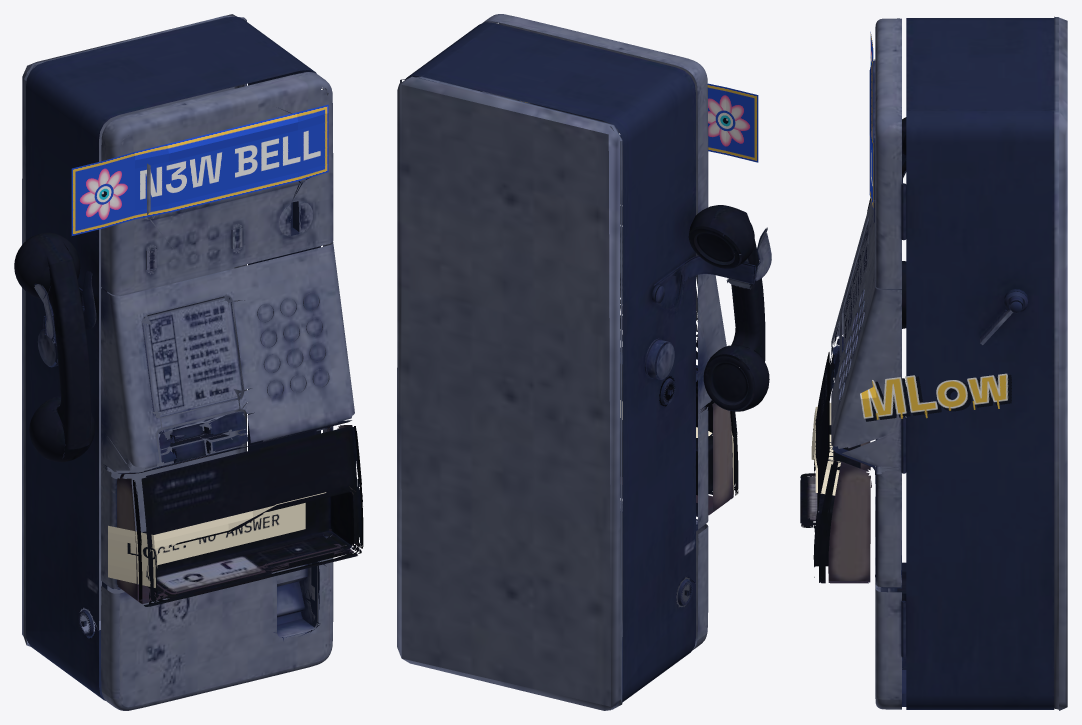
The model's file is nyb_oot_payphone.glb.
3 renders of one model, left to right at view 1: azimuth 30°, elevation 25°; view 2: azimuth 150°, elevation 25°; view 3: azimuth 270°, elevation 25°, orthographic.
Parts seen in each view (by area): view 1: korean_public_payphone_01, stk_lbl_ce1e61e44f.png, stk_lbl_8e0aa447f6.png; view 2: korean_public_payphone_01, stk_lbl_ce1e61e44f.png; view 3: korean_public_payphone_01, stk_tag_mlow_gold.png, stk_lbl_ce1e61e44f.png, stk_lbl_8e0aa447f6.png.
Part boxes in pixels (box(x1,y1,x2,y2)): korean_public_payphone_01: box(14, 14, 363, 710); stk_lbl_ce1e61e44f.png: box(71, 104, 328, 235); stk_lbl_8e0aa447f6.png: box(108, 492, 326, 587); korean_public_payphone_01: box(397, 14, 771, 710); stk_lbl_ce1e61e44f.png: box(521, 83, 758, 162); korean_public_payphone_01: box(800, 16, 1067, 710); stk_tag_mlow_gold.png: box(860, 373, 1011, 421); stk_lbl_ce1e61e44f.png: box(869, 32, 873, 209); stk_lbl_8e0aa447f6.png: box(811, 403, 840, 495).
Bounding box in the file's own units: 0.4006 × 0.7378 × 0.3002.
4 materials, 4 textured.
